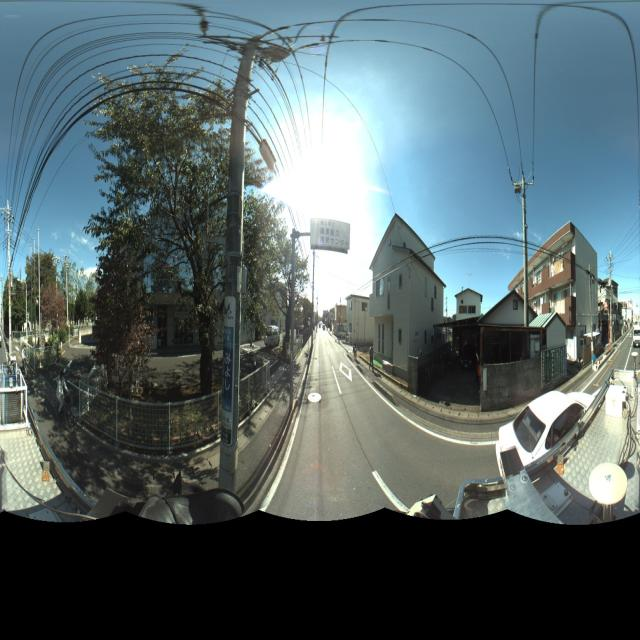b_1: (372, 214, 448, 398), (510, 208, 599, 363), (451, 278, 536, 416), (342, 286, 378, 356)
b_2: (96, 191, 264, 370)
